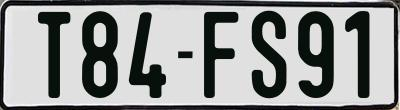1: (344, 9, 371, 101)
4: (128, 10, 171, 96)
8: (80, 8, 121, 101)
9: (298, 9, 334, 98)
F: (202, 11, 238, 103)
S: (251, 11, 288, 103)
T: (37, 12, 69, 99)
